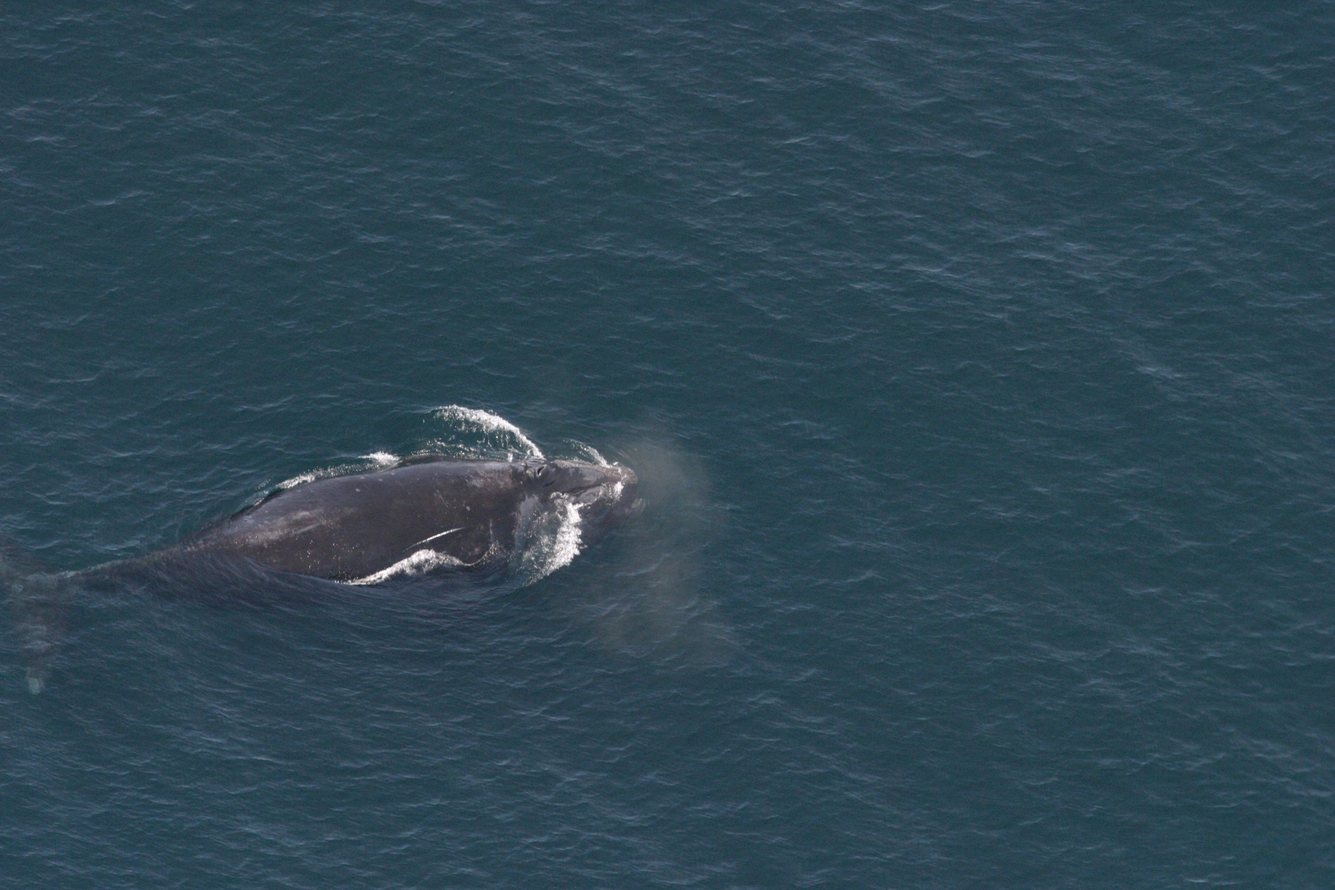whale: (0, 452, 651, 705)
